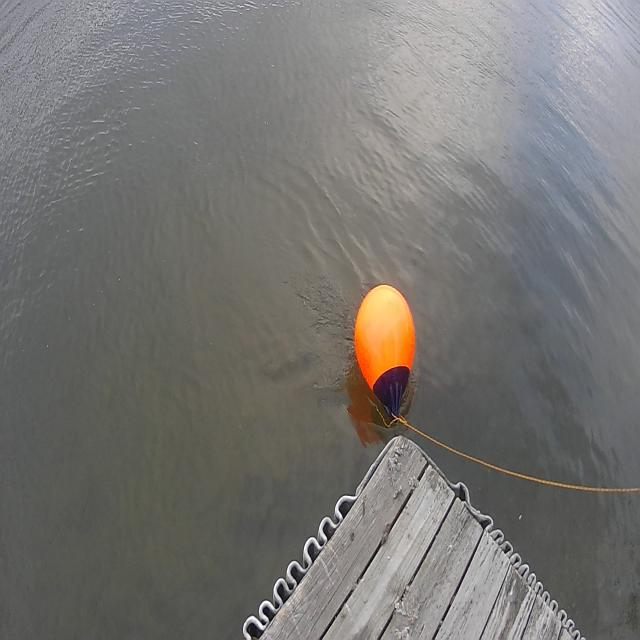Buoy: (346, 264, 429, 432)
